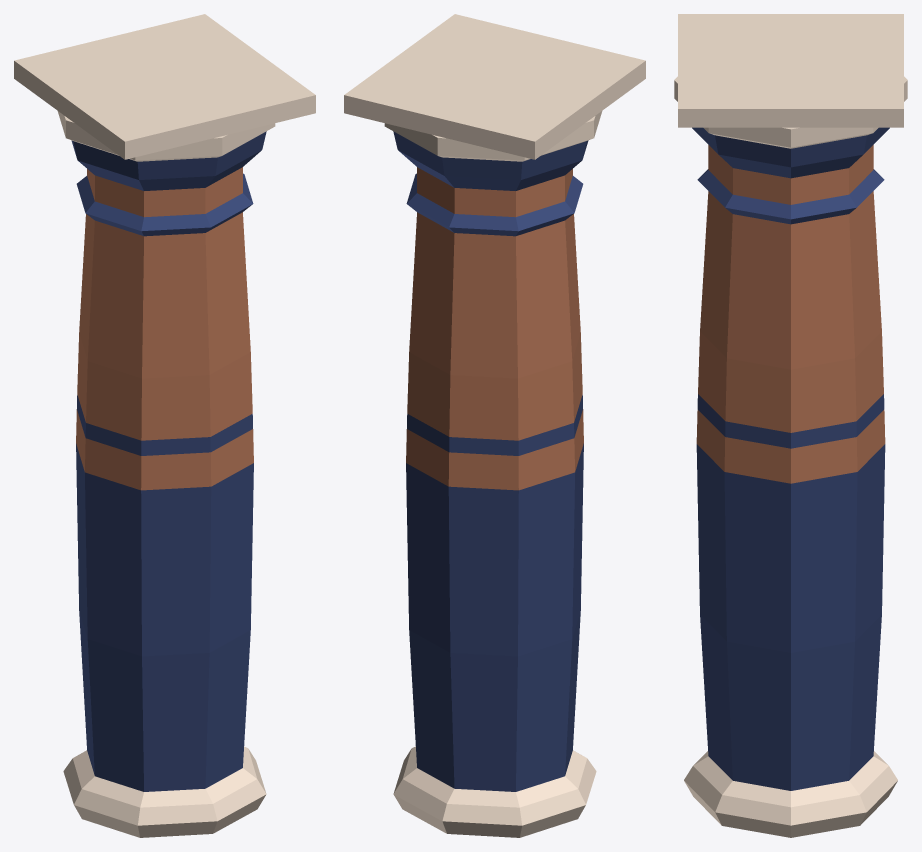
File: empire-pillar-tuscan-small-color-empire.glb
3 views of the same model, side by side, from view 1: azimuth 30°, elevation 25°; view 2: azimuth 150°, elevation 25°; view 3: azimuth 270°, elevation 25° (orthographic).
Visible parts, largest first — view 1: SM_Pillar_Tuscan_Small_Color_Empire; view 2: SM_Pillar_Tuscan_Small_Color_Empire; view 3: SM_Pillar_Tuscan_Small_Color_Empire.
Part boxes in pixels (bbox=[...]): SM_Pillar_Tuscan_Small_Color_Empire: bbox=[14, 14, 315, 837]; SM_Pillar_Tuscan_Small_Color_Empire: bbox=[344, 14, 645, 837]; SM_Pillar_Tuscan_Small_Color_Empire: bbox=[674, 14, 907, 837].
Size of the model in its own units: 0.8633 by 3 by 0.8633.
